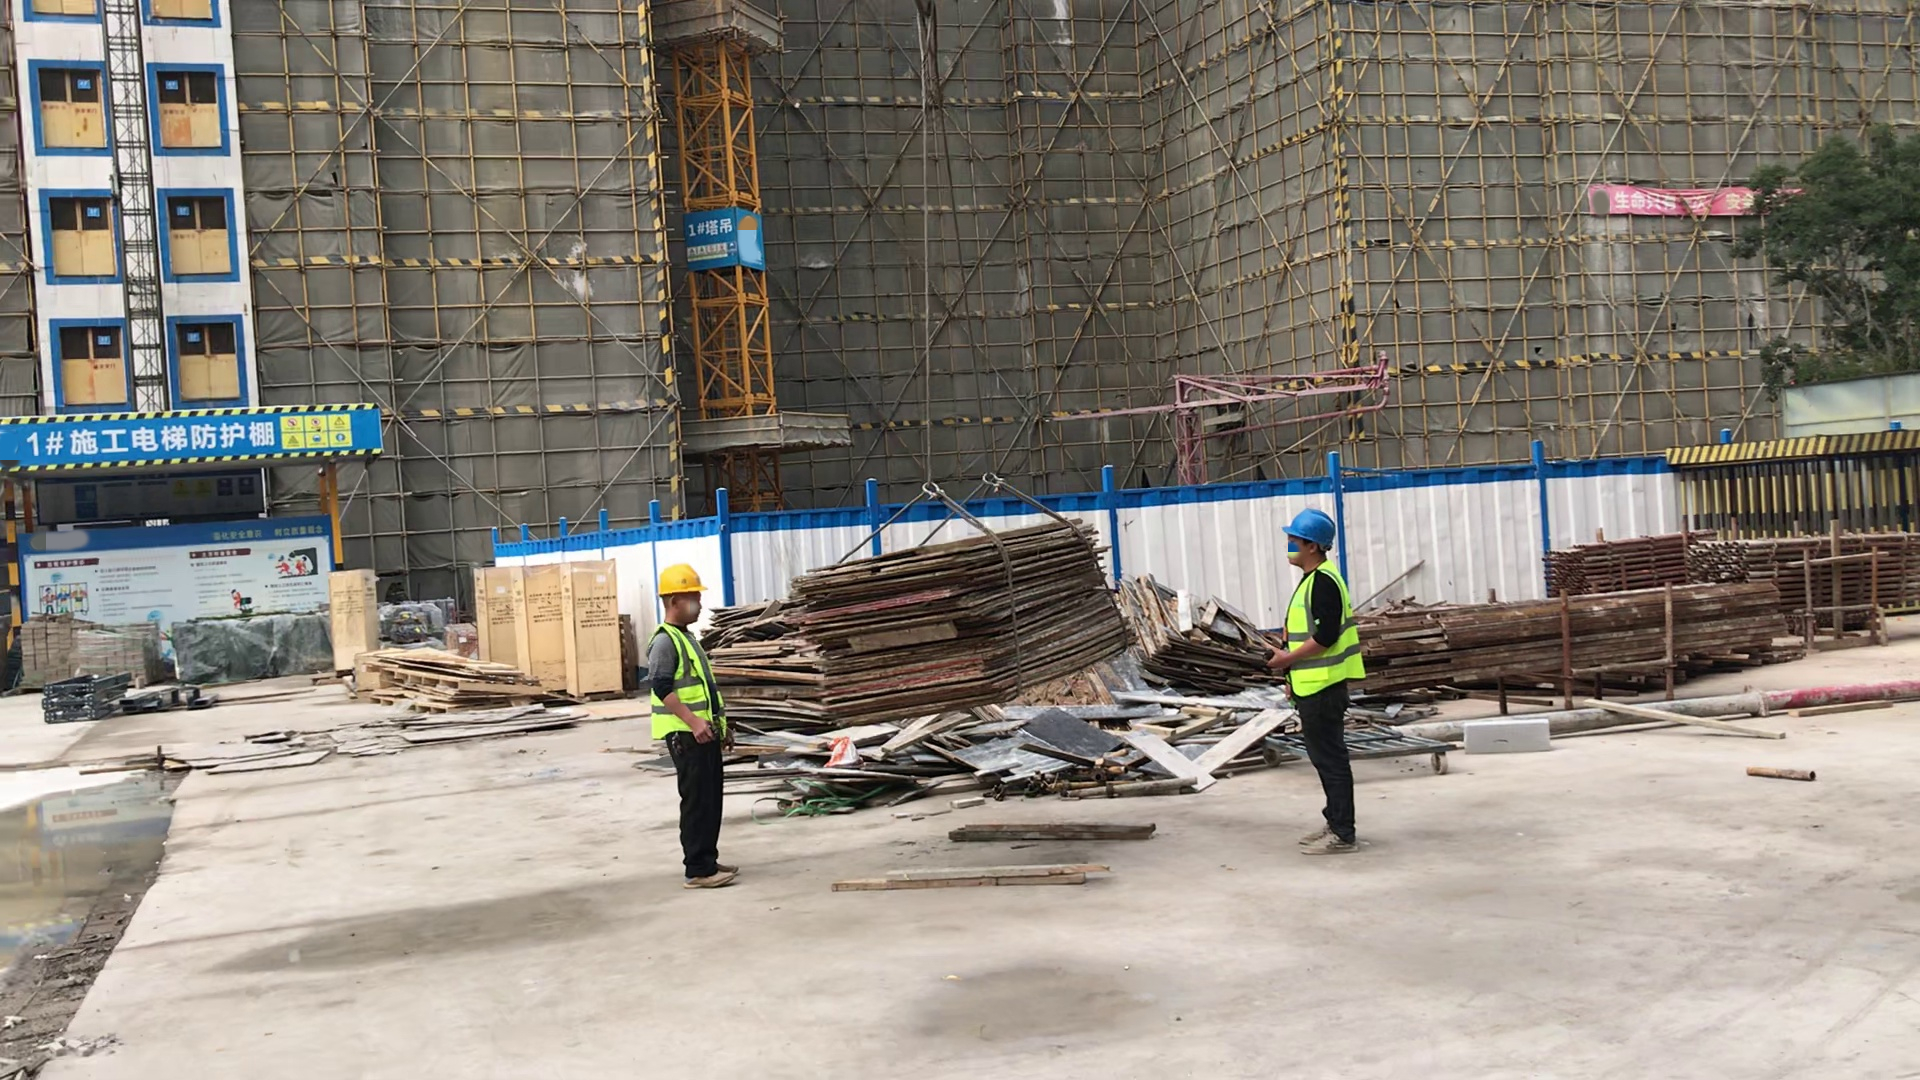board: (783, 517, 1144, 734)
helmet: (1282, 511, 1334, 550), (656, 564, 709, 597)
person: (1262, 511, 1377, 852), (652, 564, 751, 891)
scaffold: (1543, 522, 1920, 639)
slogan: (1583, 177, 1794, 225), (272, 413, 363, 446), (688, 244, 734, 259)
vest: (1284, 559, 1364, 696), (654, 624, 724, 737)
